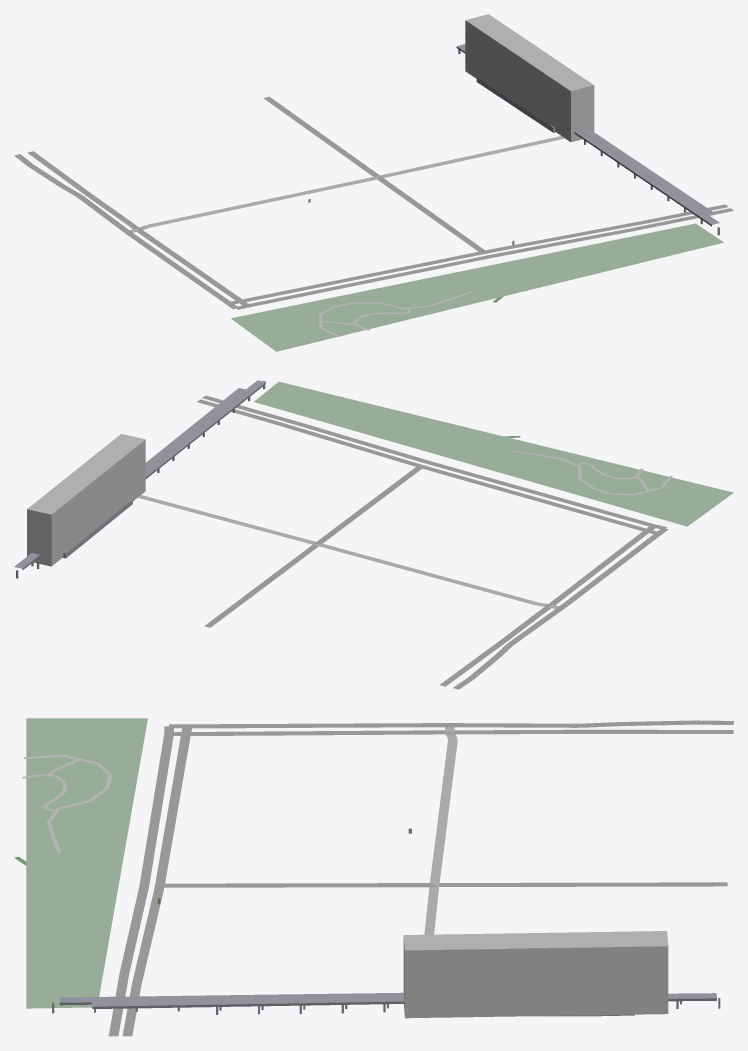
3 views of the same model, one above another, from view 1: azimuth 30°, elevation 25°; view 2: azimuth 150°, elevation 25°; view 3: azimuth 270°, elevation 25° (orthographic). The views are drawn at different scales.
Bounding box in the file's own units: 537 × 54.6 × 516.
